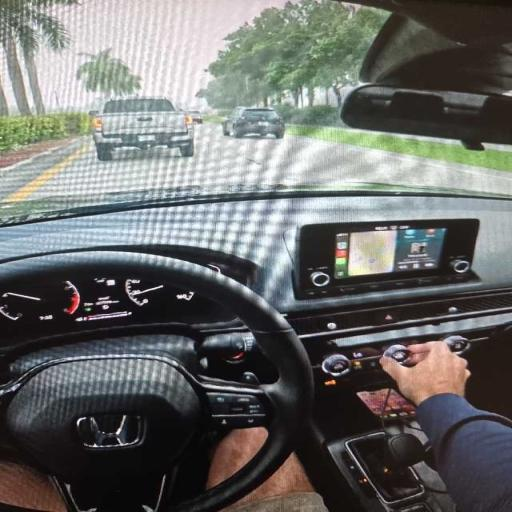car: (0, 0, 511, 511), (222, 107, 285, 138), (188, 110, 203, 124)
lane: (24, 124, 511, 198), (0, 137, 91, 200)
person: (381, 342, 511, 511), (225, 454, 327, 511)
truck: (89, 97, 193, 160)
